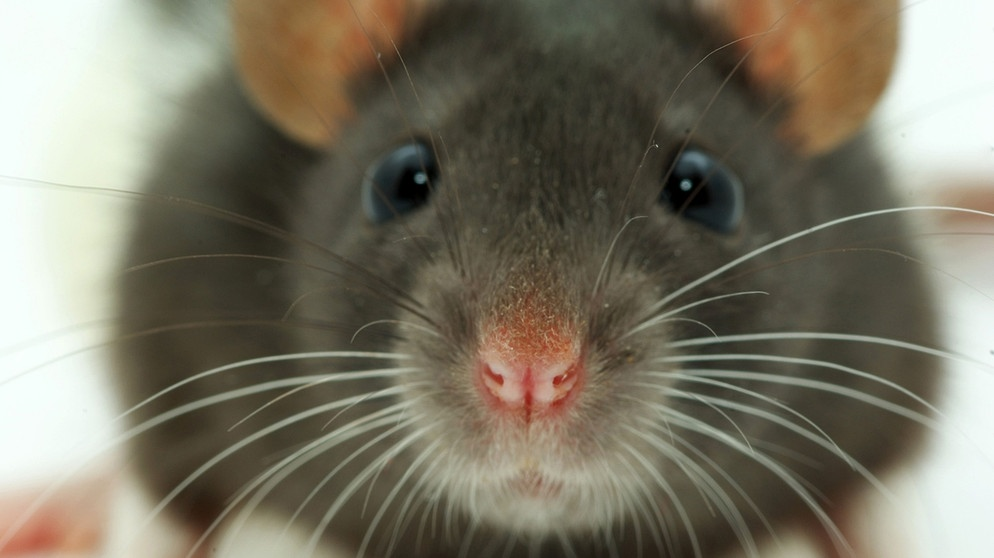rat: (184, 1, 947, 558)
